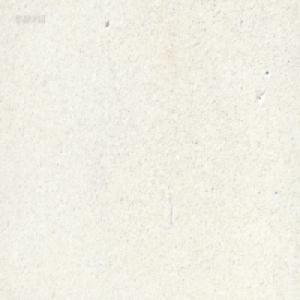Wrench: (168, 0, 174, 5)
